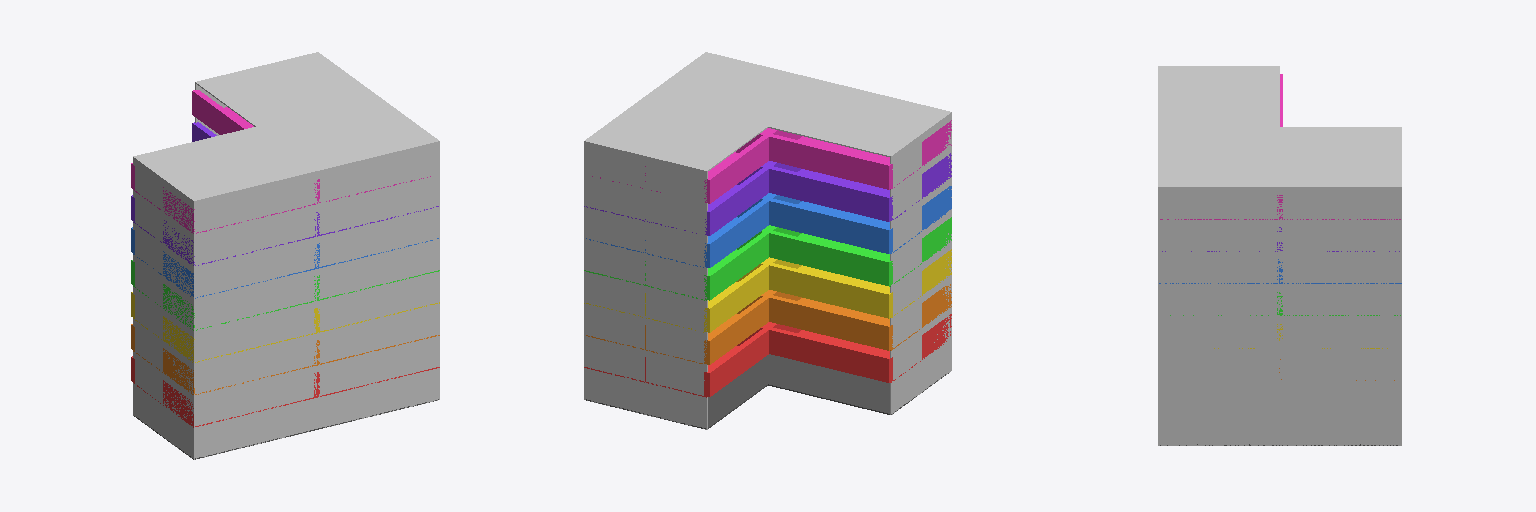
File: 赤土崎多功能館_四分之一切開.obj
The picture shows the model from 3 angles: view 1: azimuth 30°, elevation 25°; view 2: azimuth 150°, elevation 25°; view 3: azimuth 270°, elevation 25°; orthographic projection.
Bounding box in the file's own units: 4.2 × 4.22 × 3.6.